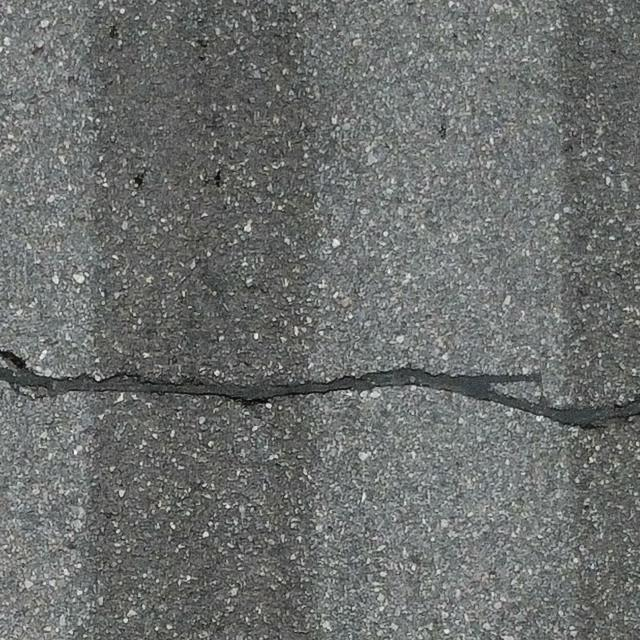TransverseCrack: (1, 349, 640, 430)
